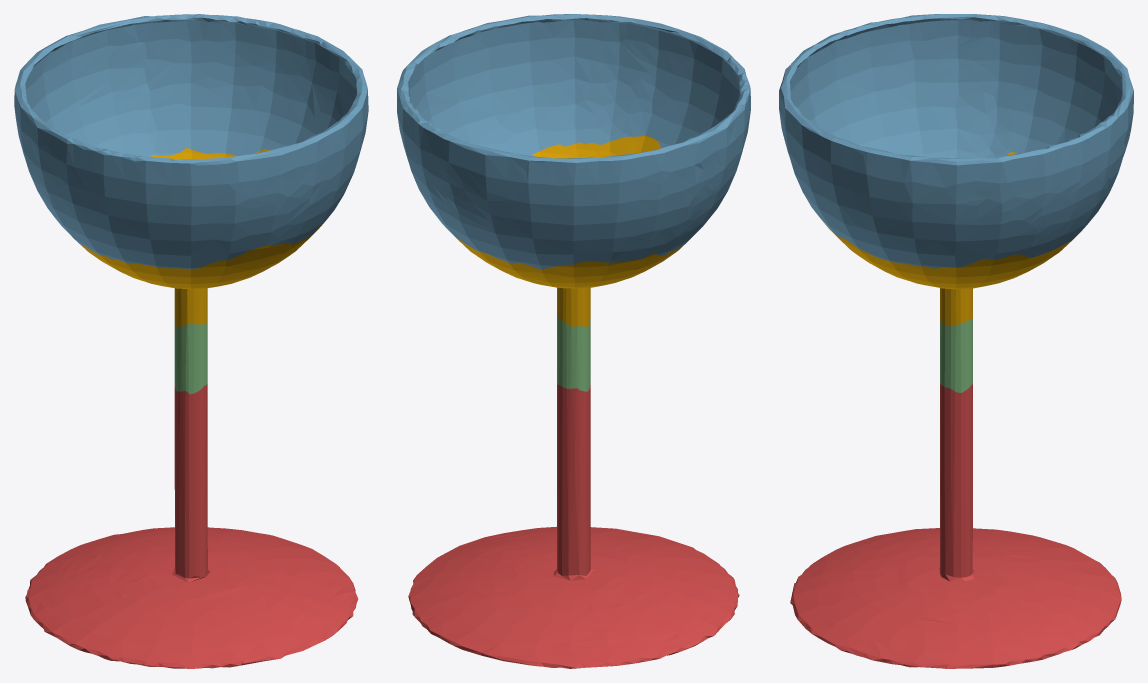
Rendered from fractured_32_4pcs.glb.
3 renders of one model, left to right at view 1: azimuth 30°, elevation 25°; view 2: azimuth 150°, elevation 25°; view 3: azimuth 270°, elevation 25°, orthographic.
Parts seen in each view (by area): view 1: piece_2.obj, piece_1.obj, piece_0.obj, piece_3.obj; view 2: piece_2.obj, piece_1.obj, piece_0.obj, piece_3.obj; view 3: piece_2.obj, piece_1.obj, piece_0.obj, piece_3.obj.
Boxes of the visible parts, left/top/right/bottom form: piece_2.obj: left=14, top=14, right=368, bottom=268; piece_1.obj: left=25, top=384, right=358, bottom=668; piece_0.obj: left=81, top=148, right=322, bottom=328; piece_3.obj: left=174, top=321, right=207, bottom=394; piece_2.obj: left=397, top=14, right=750, bottom=269; piece_1.obj: left=408, top=384, right=739, bottom=668; piece_0.obj: left=456, top=135, right=683, bottom=326; piece_3.obj: left=557, top=316, right=590, bottom=391; piece_2.obj: left=779, top=14, right=1133, bottom=268; piece_1.obj: left=790, top=384, right=1121, bottom=668; piece_0.obj: left=820, top=152, right=1076, bottom=326; piece_3.obj: left=940, top=318, right=972, bottom=392.
Size of the model in its own units: 0.6244 by 1 by 0.6242.
